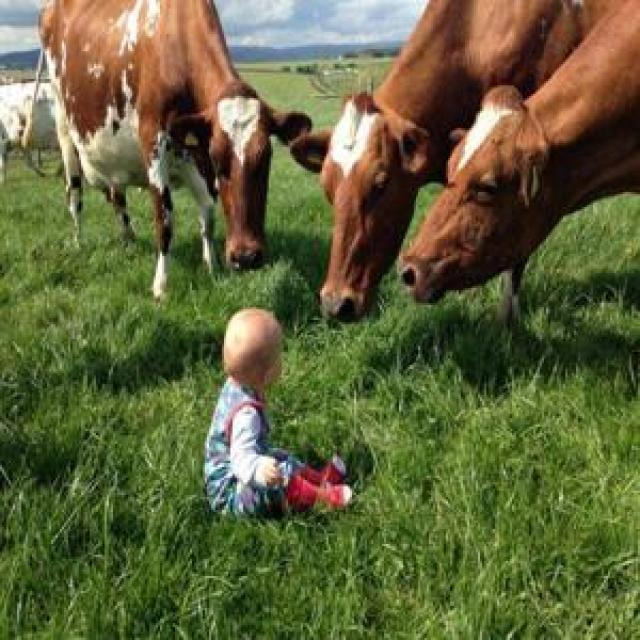cow: (320, 0, 580, 319), (40, 0, 310, 298), (402, 0, 640, 301)
